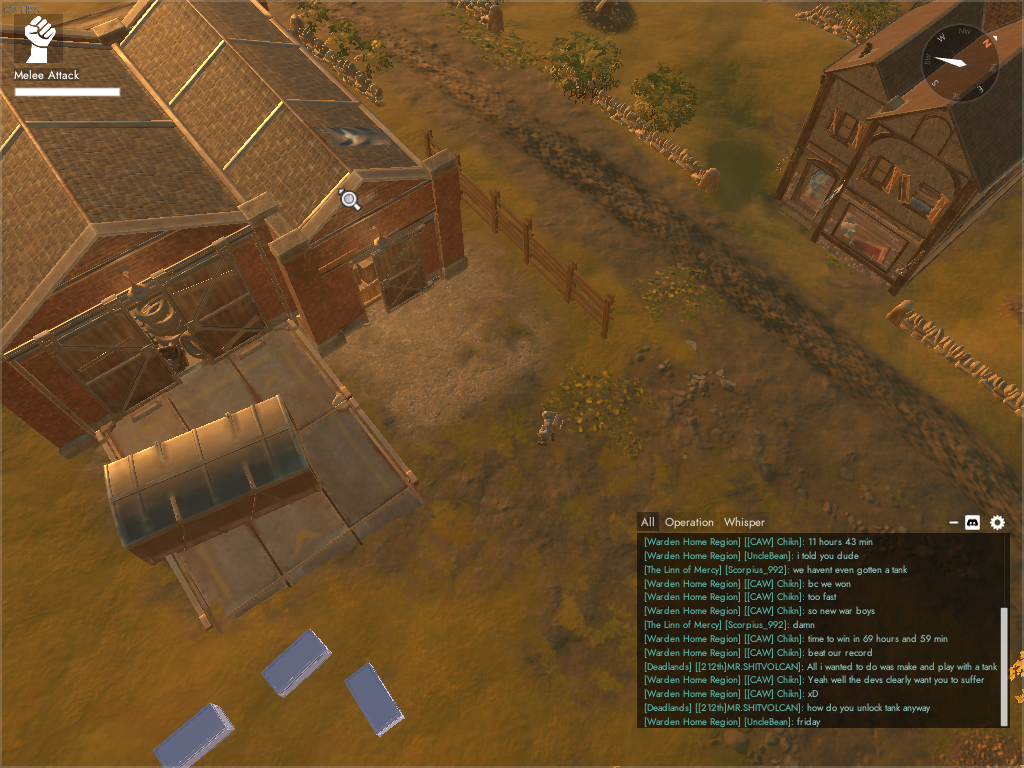container: (99, 391, 326, 567)
player: (533, 407, 563, 448)
storage_box: (144, 700, 241, 768), (258, 624, 336, 702), (342, 660, 410, 741)
